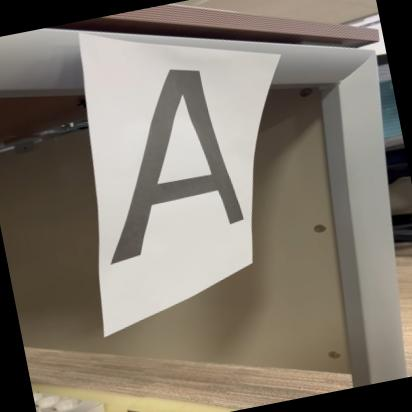seat: (59, 52, 253, 276)
